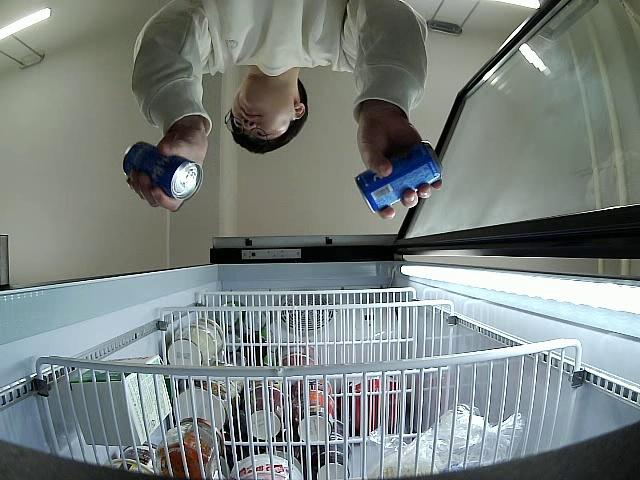00_hand: (356, 113, 442, 221), (125, 133, 207, 214)
15_letsbe: (354, 142, 439, 216), (122, 142, 204, 202)
